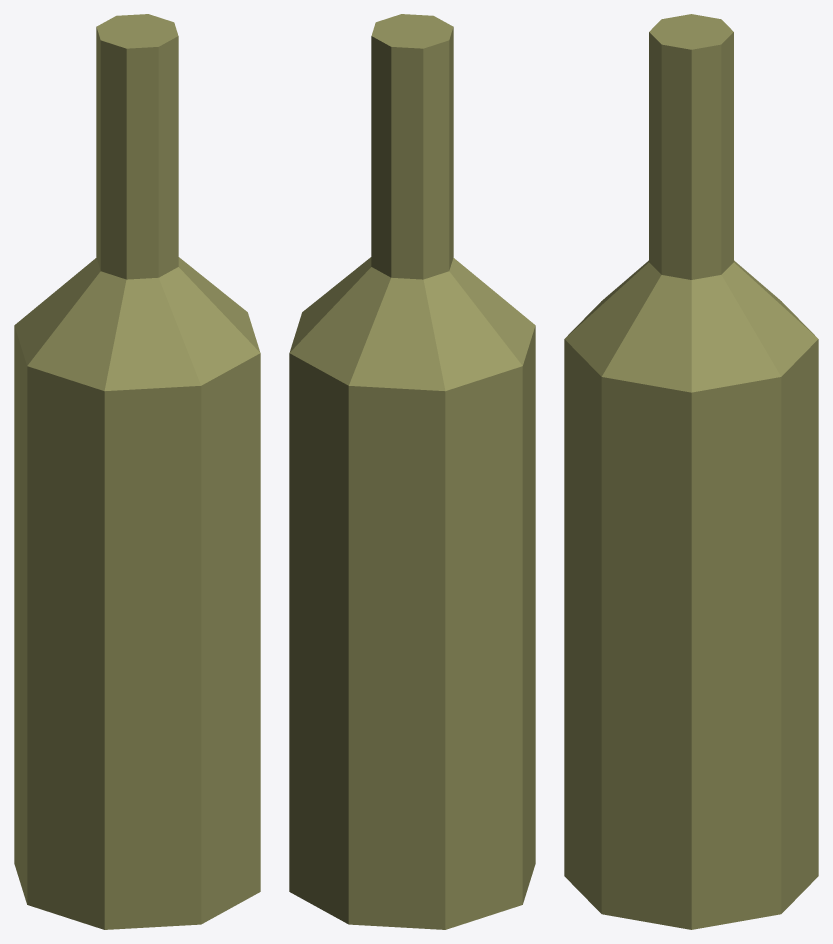
The model's file is bottle.obj.
The picture shows the model from 3 angles, left to right: view 1: azimuth 30°, elevation 25°; view 2: azimuth 150°, elevation 25°; view 3: azimuth 270°, elevation 25°; orthographic projection.
Bounding box in the file's own units: 0.5345 × 1.96 × 0.5345.
